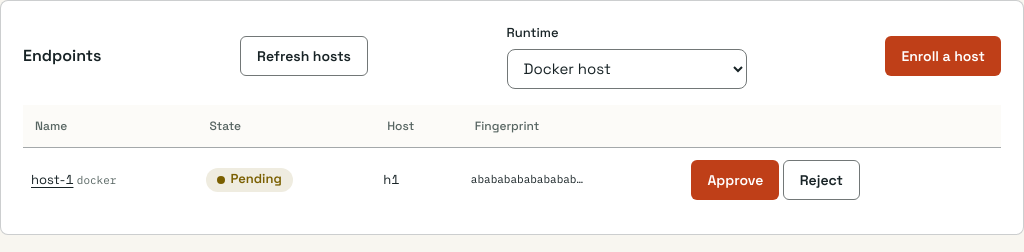
approves with the exact fingerprint after confirmation and hides actions for terminal states
What coordinates should you click on to do the following:
click the button "Approve"
I would click on:
 (735, 180)
Its box is [692, 160, 779, 200].
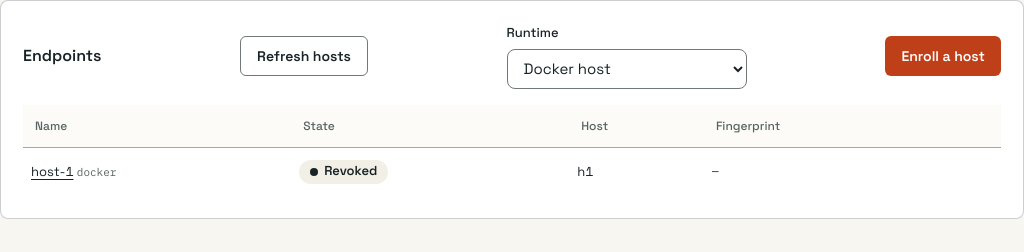
Expected: the text "Revoked" is shown, [299, 160, 388, 184]
Expected: the button "Approve" is gone
